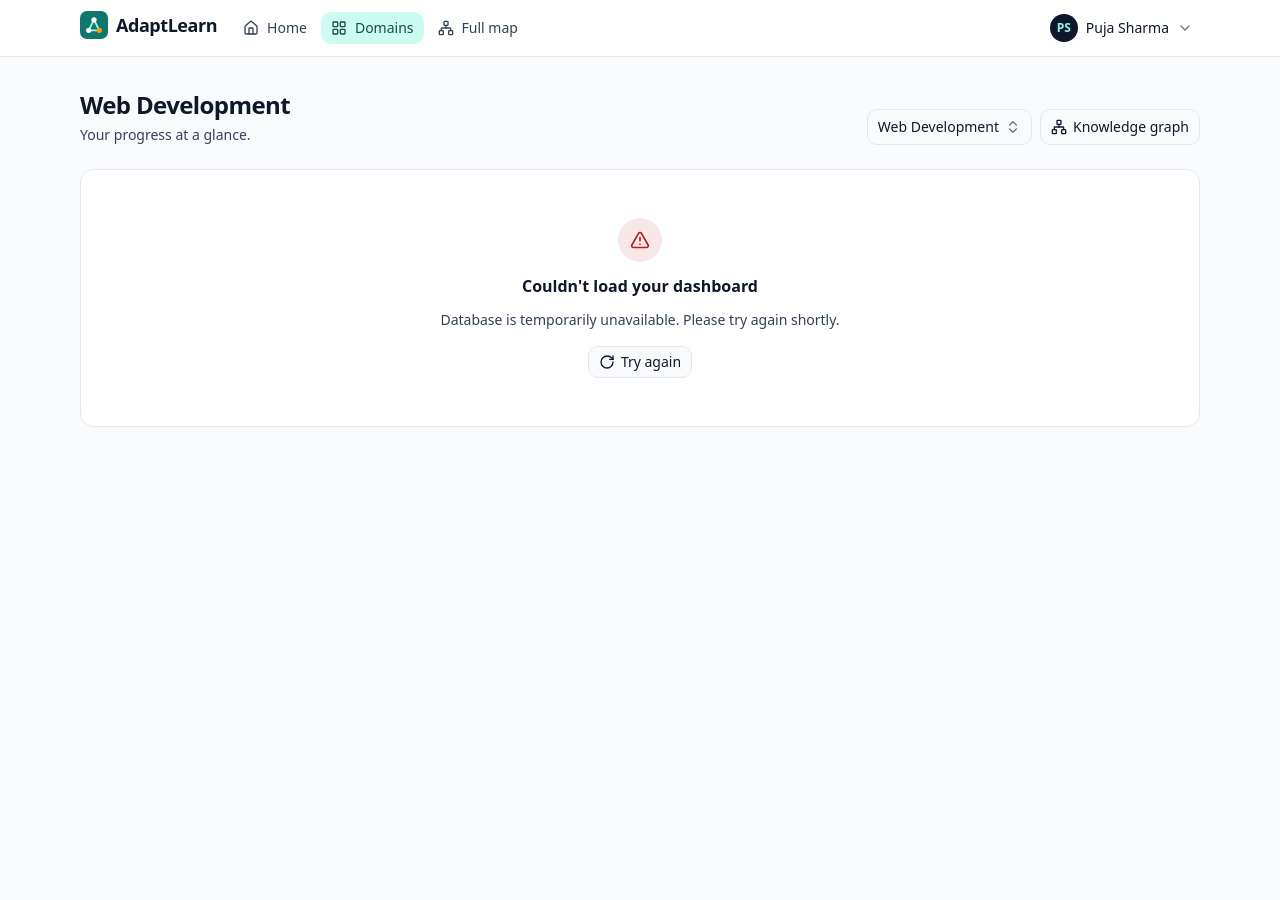
Test case: loading › offers a retry when the dashboard cannot be loaded
Check: the heading "Couldn't load your dashboard" is shown, box [522, 274, 758, 298]
Check: the text "Database is temporarily unavailable. Please try again shortly." is shown, box [440, 310, 840, 330]
Click the button "Try again" at (640, 362), box [588, 346, 692, 378]
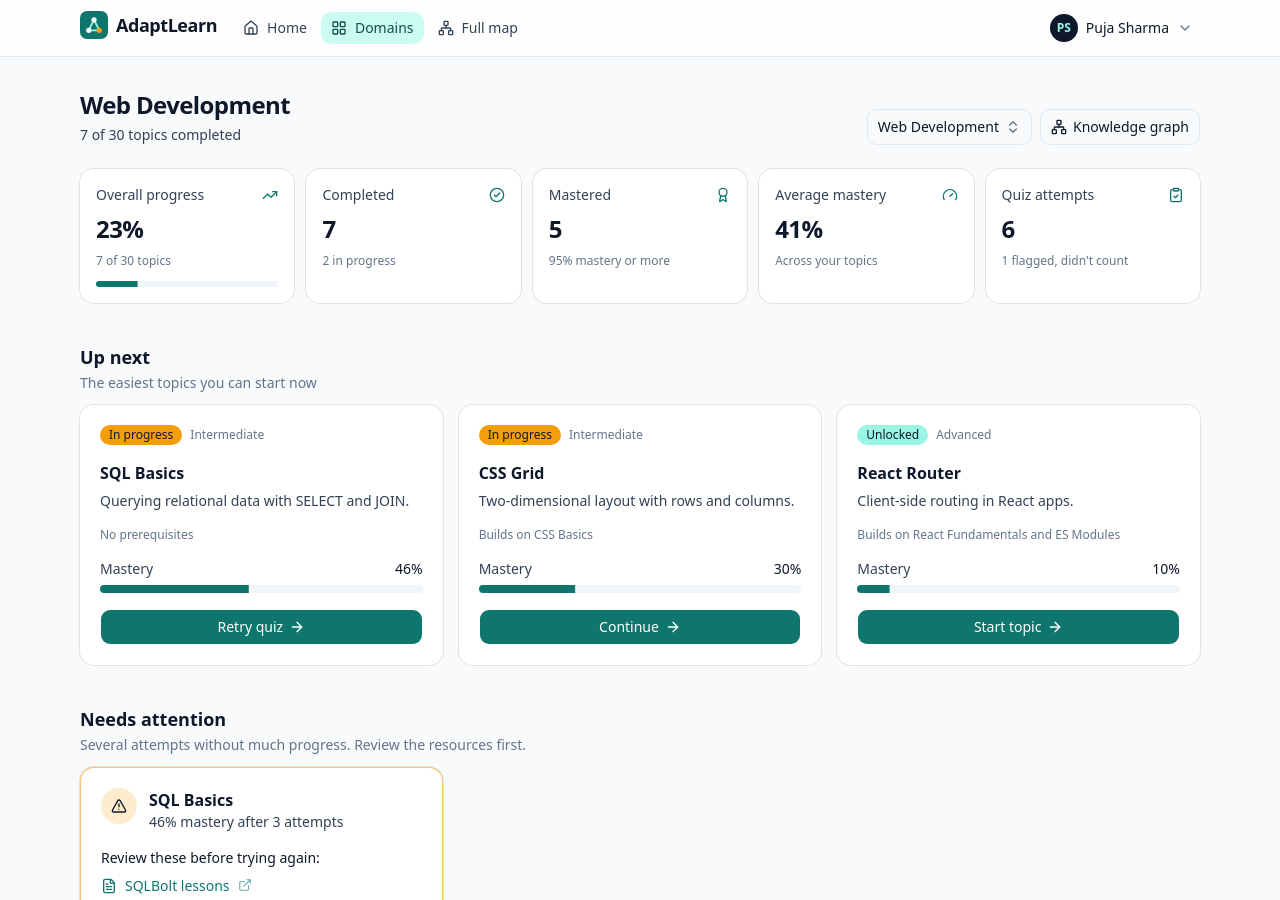
Check: the element named "Your progress" is shown, box [80, 169, 1200, 303]
